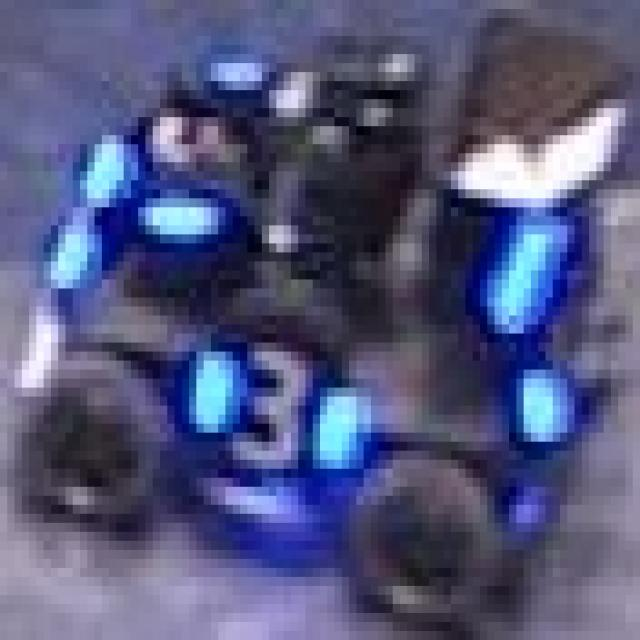B3: (189, 333, 364, 478)
